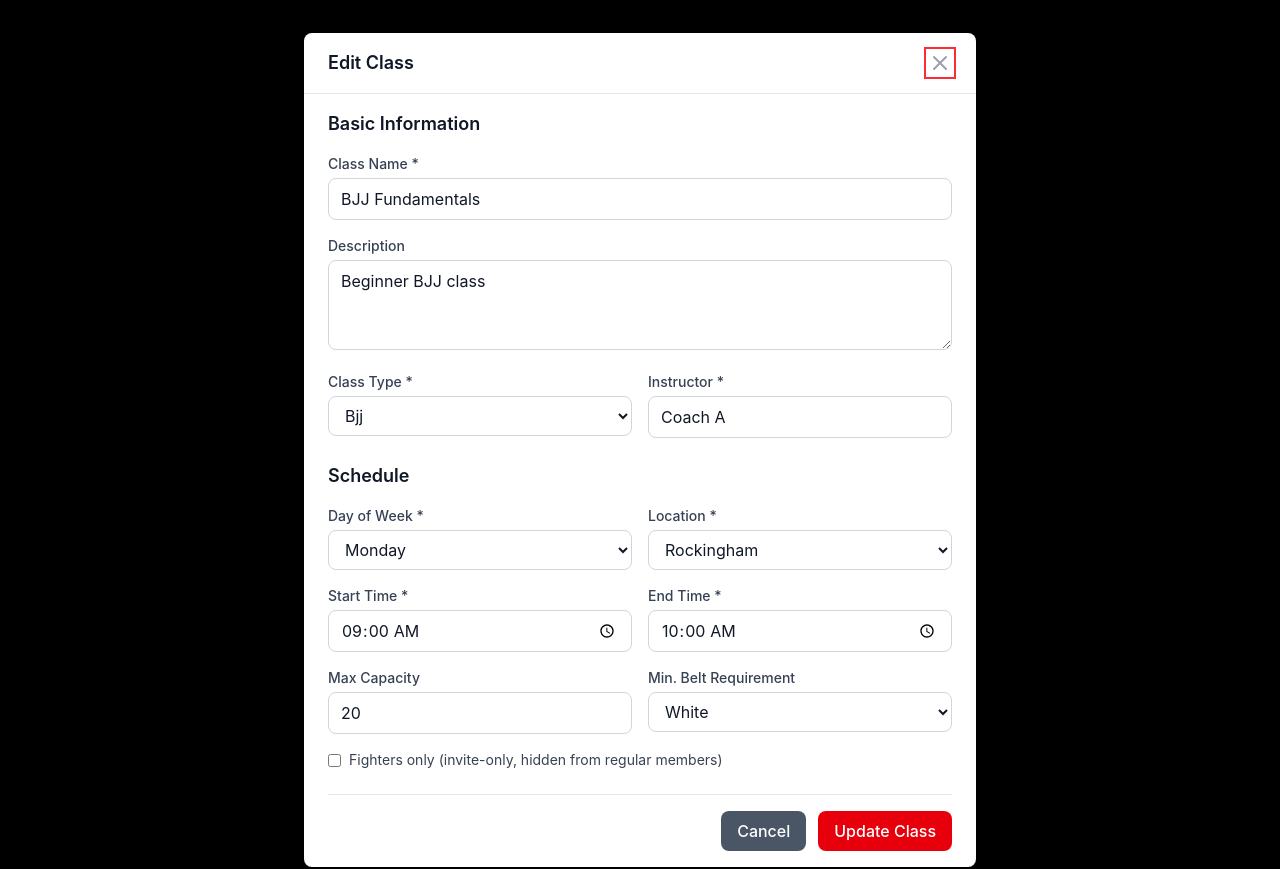
Test: EditClassModal › shows generic error when no response data
Click the button "Update Class".
click(885, 831)  # box [818,811,952,851]
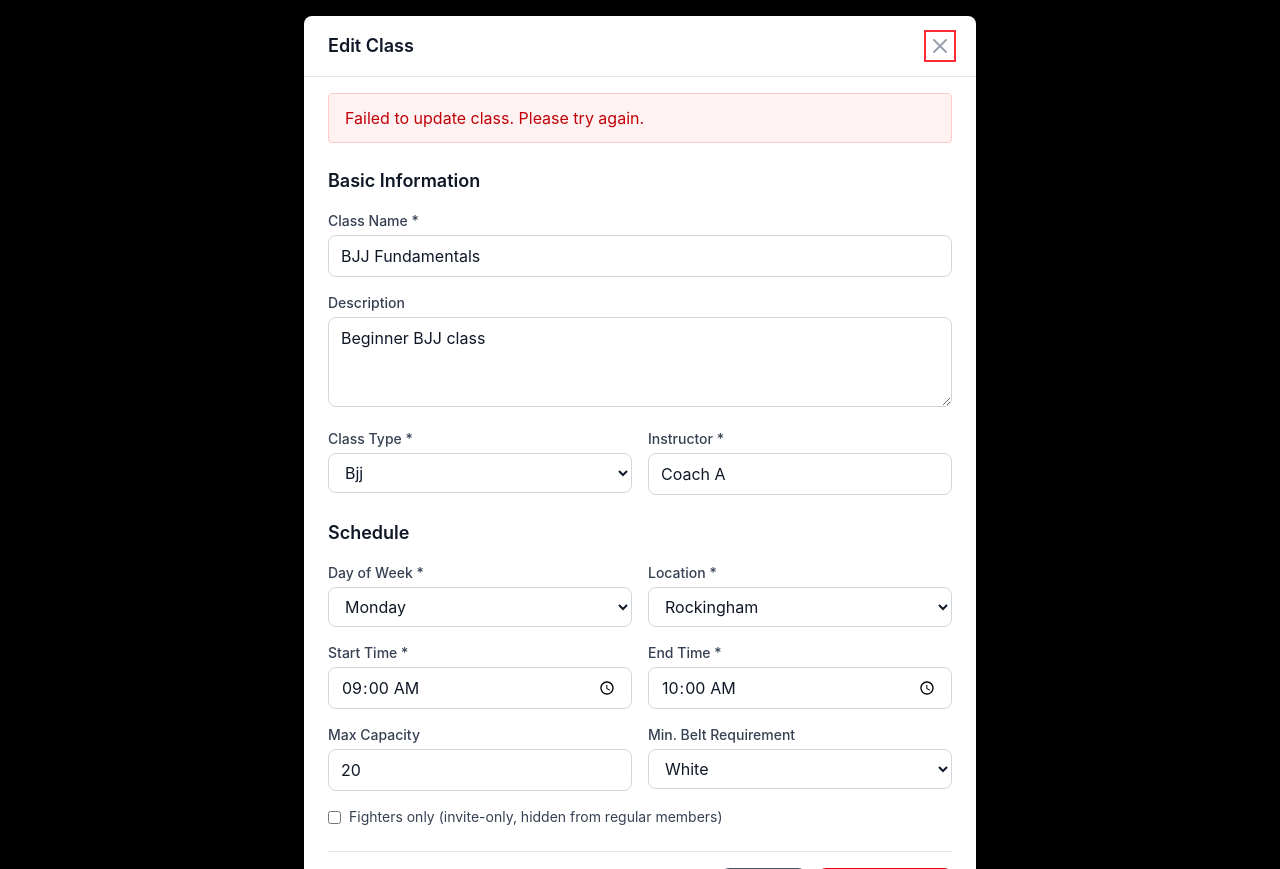
Check: the text "Failed to update class. Please try again." is shown, box [328,93,952,143]
